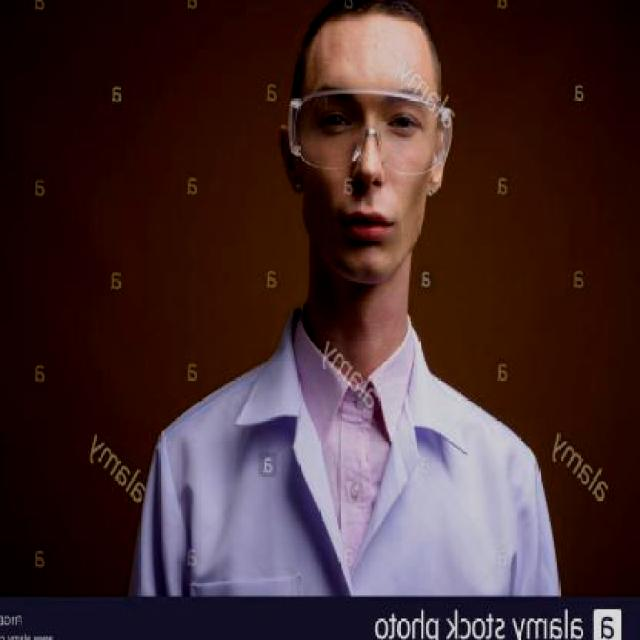face_nomask: (289, 88, 434, 261)
glasses: (285, 86, 450, 174)
head_nohelmet: (289, 0, 442, 52)
person: (137, 0, 576, 598)
